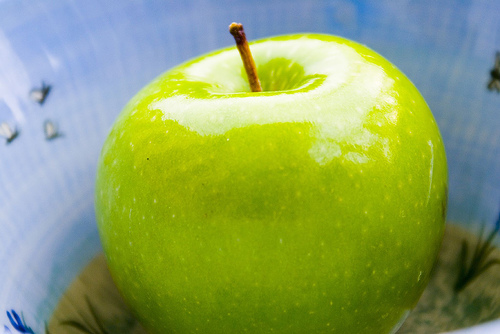apple: (92, 19, 449, 332)
